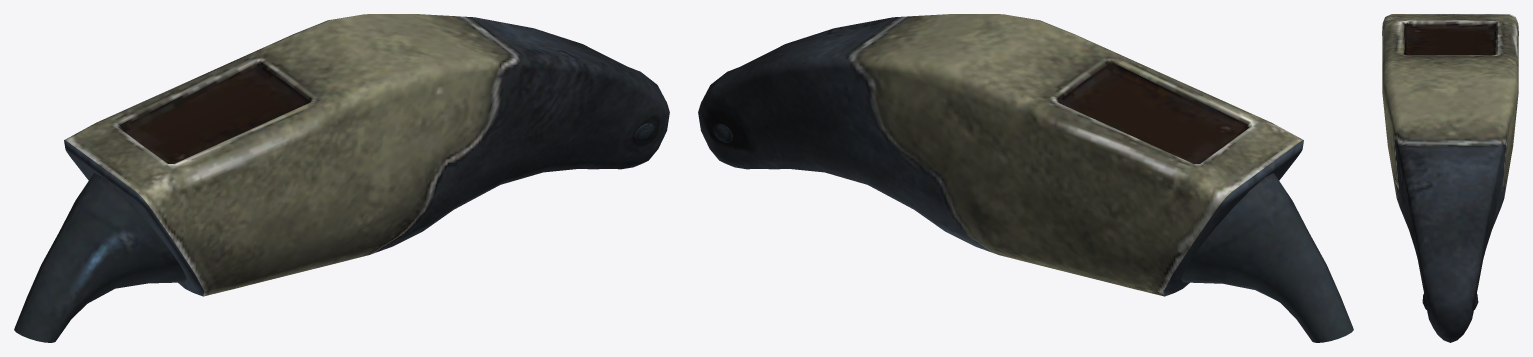
File: thermometer.DAE
3 views of the same model, side by side, from view 1: azimuth 30°, elevation 25°; view 2: azimuth 150°, elevation 25°; view 3: azimuth 270°, elevation 25° (orthographic). The views are drawn at different scales.
Visible parts, largest first — view 1: polySurface2; view 2: polySurface2; view 3: polySurface2.
Boxes of the visible parts, bbox=[...] form: polySurface2: bbox=[14, 14, 669, 342]; polySurface2: bbox=[698, 14, 1353, 342]; polySurface2: bbox=[1382, 14, 1518, 342].
Bounding box in the file's own units: 0.2509 × 0.0544 × 0.0794.
